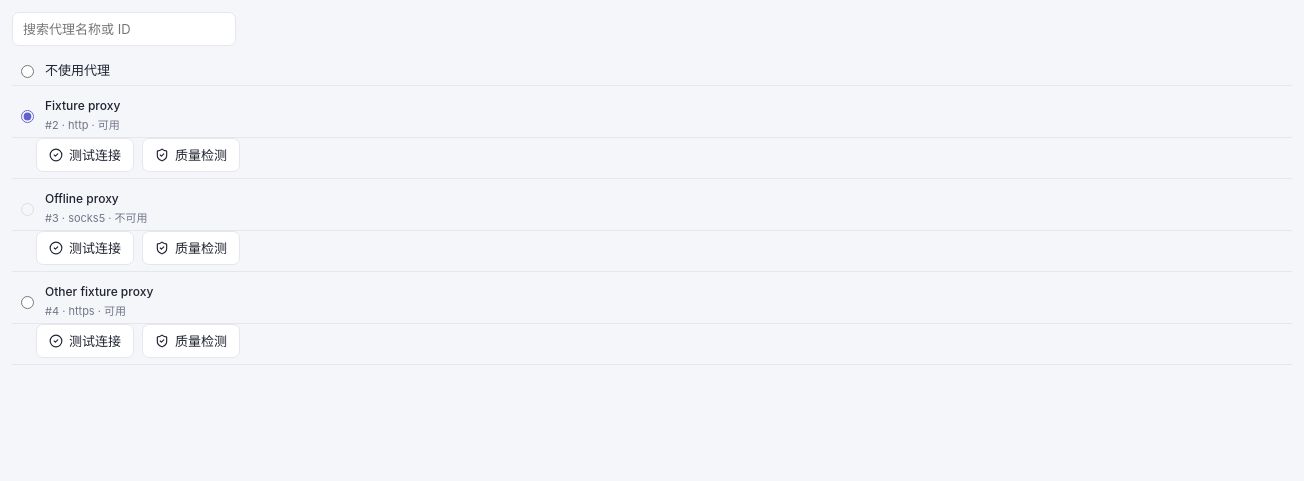
shared proxy options › keeps diagnostics separate from proxy selection and renders safe connection details
The width and height of the screenshot is (1304, 481).
Click the button "测试连接" below "https": (85, 341) top-left (36, 324), bottom-right (134, 358)
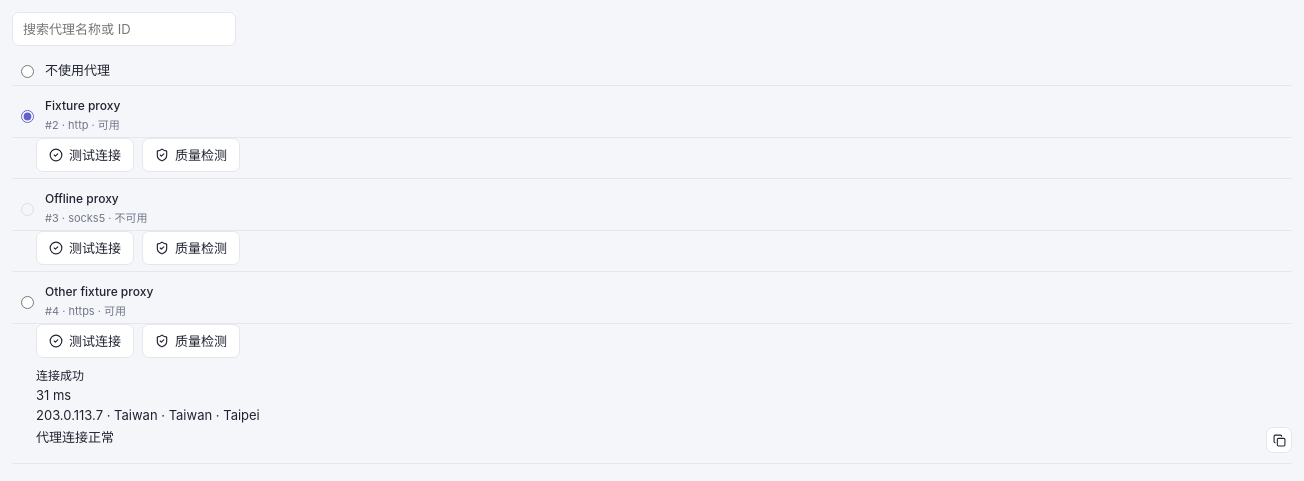
Now the text "203.0.113.7" is shown, box top-left (36, 407), bottom-right (260, 423)
Now the text "31 ms" is shown, box top-left (36, 387), bottom-right (71, 403)
